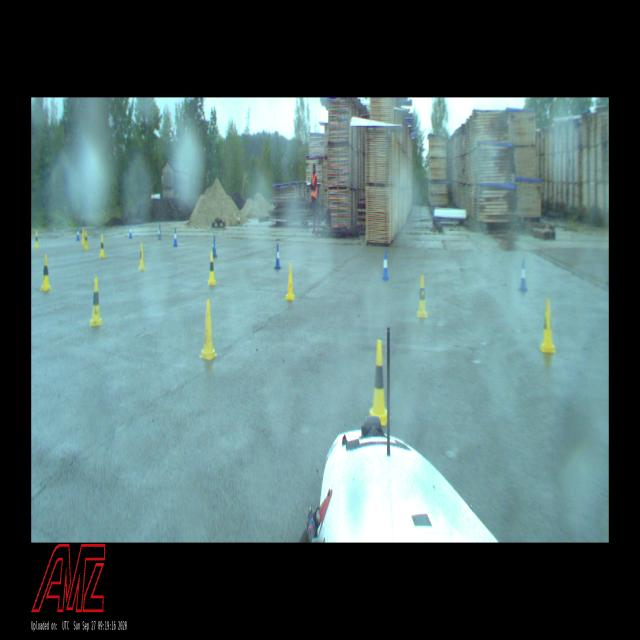blue_cone: (518, 258, 528, 292), (382, 250, 389, 280), (275, 244, 281, 269), (211, 235, 217, 258), (174, 228, 178, 247), (76, 225, 80, 241), (158, 225, 161, 240)
yellow_cone: (369, 339, 390, 426), (199, 299, 217, 363), (540, 297, 556, 353), (89, 276, 103, 326), (417, 275, 427, 317), (285, 263, 296, 300), (40, 254, 51, 290), (208, 253, 216, 285), (138, 242, 145, 270), (98, 235, 105, 258), (34, 230, 40, 248), (84, 230, 89, 250), (82, 228, 85, 246)
